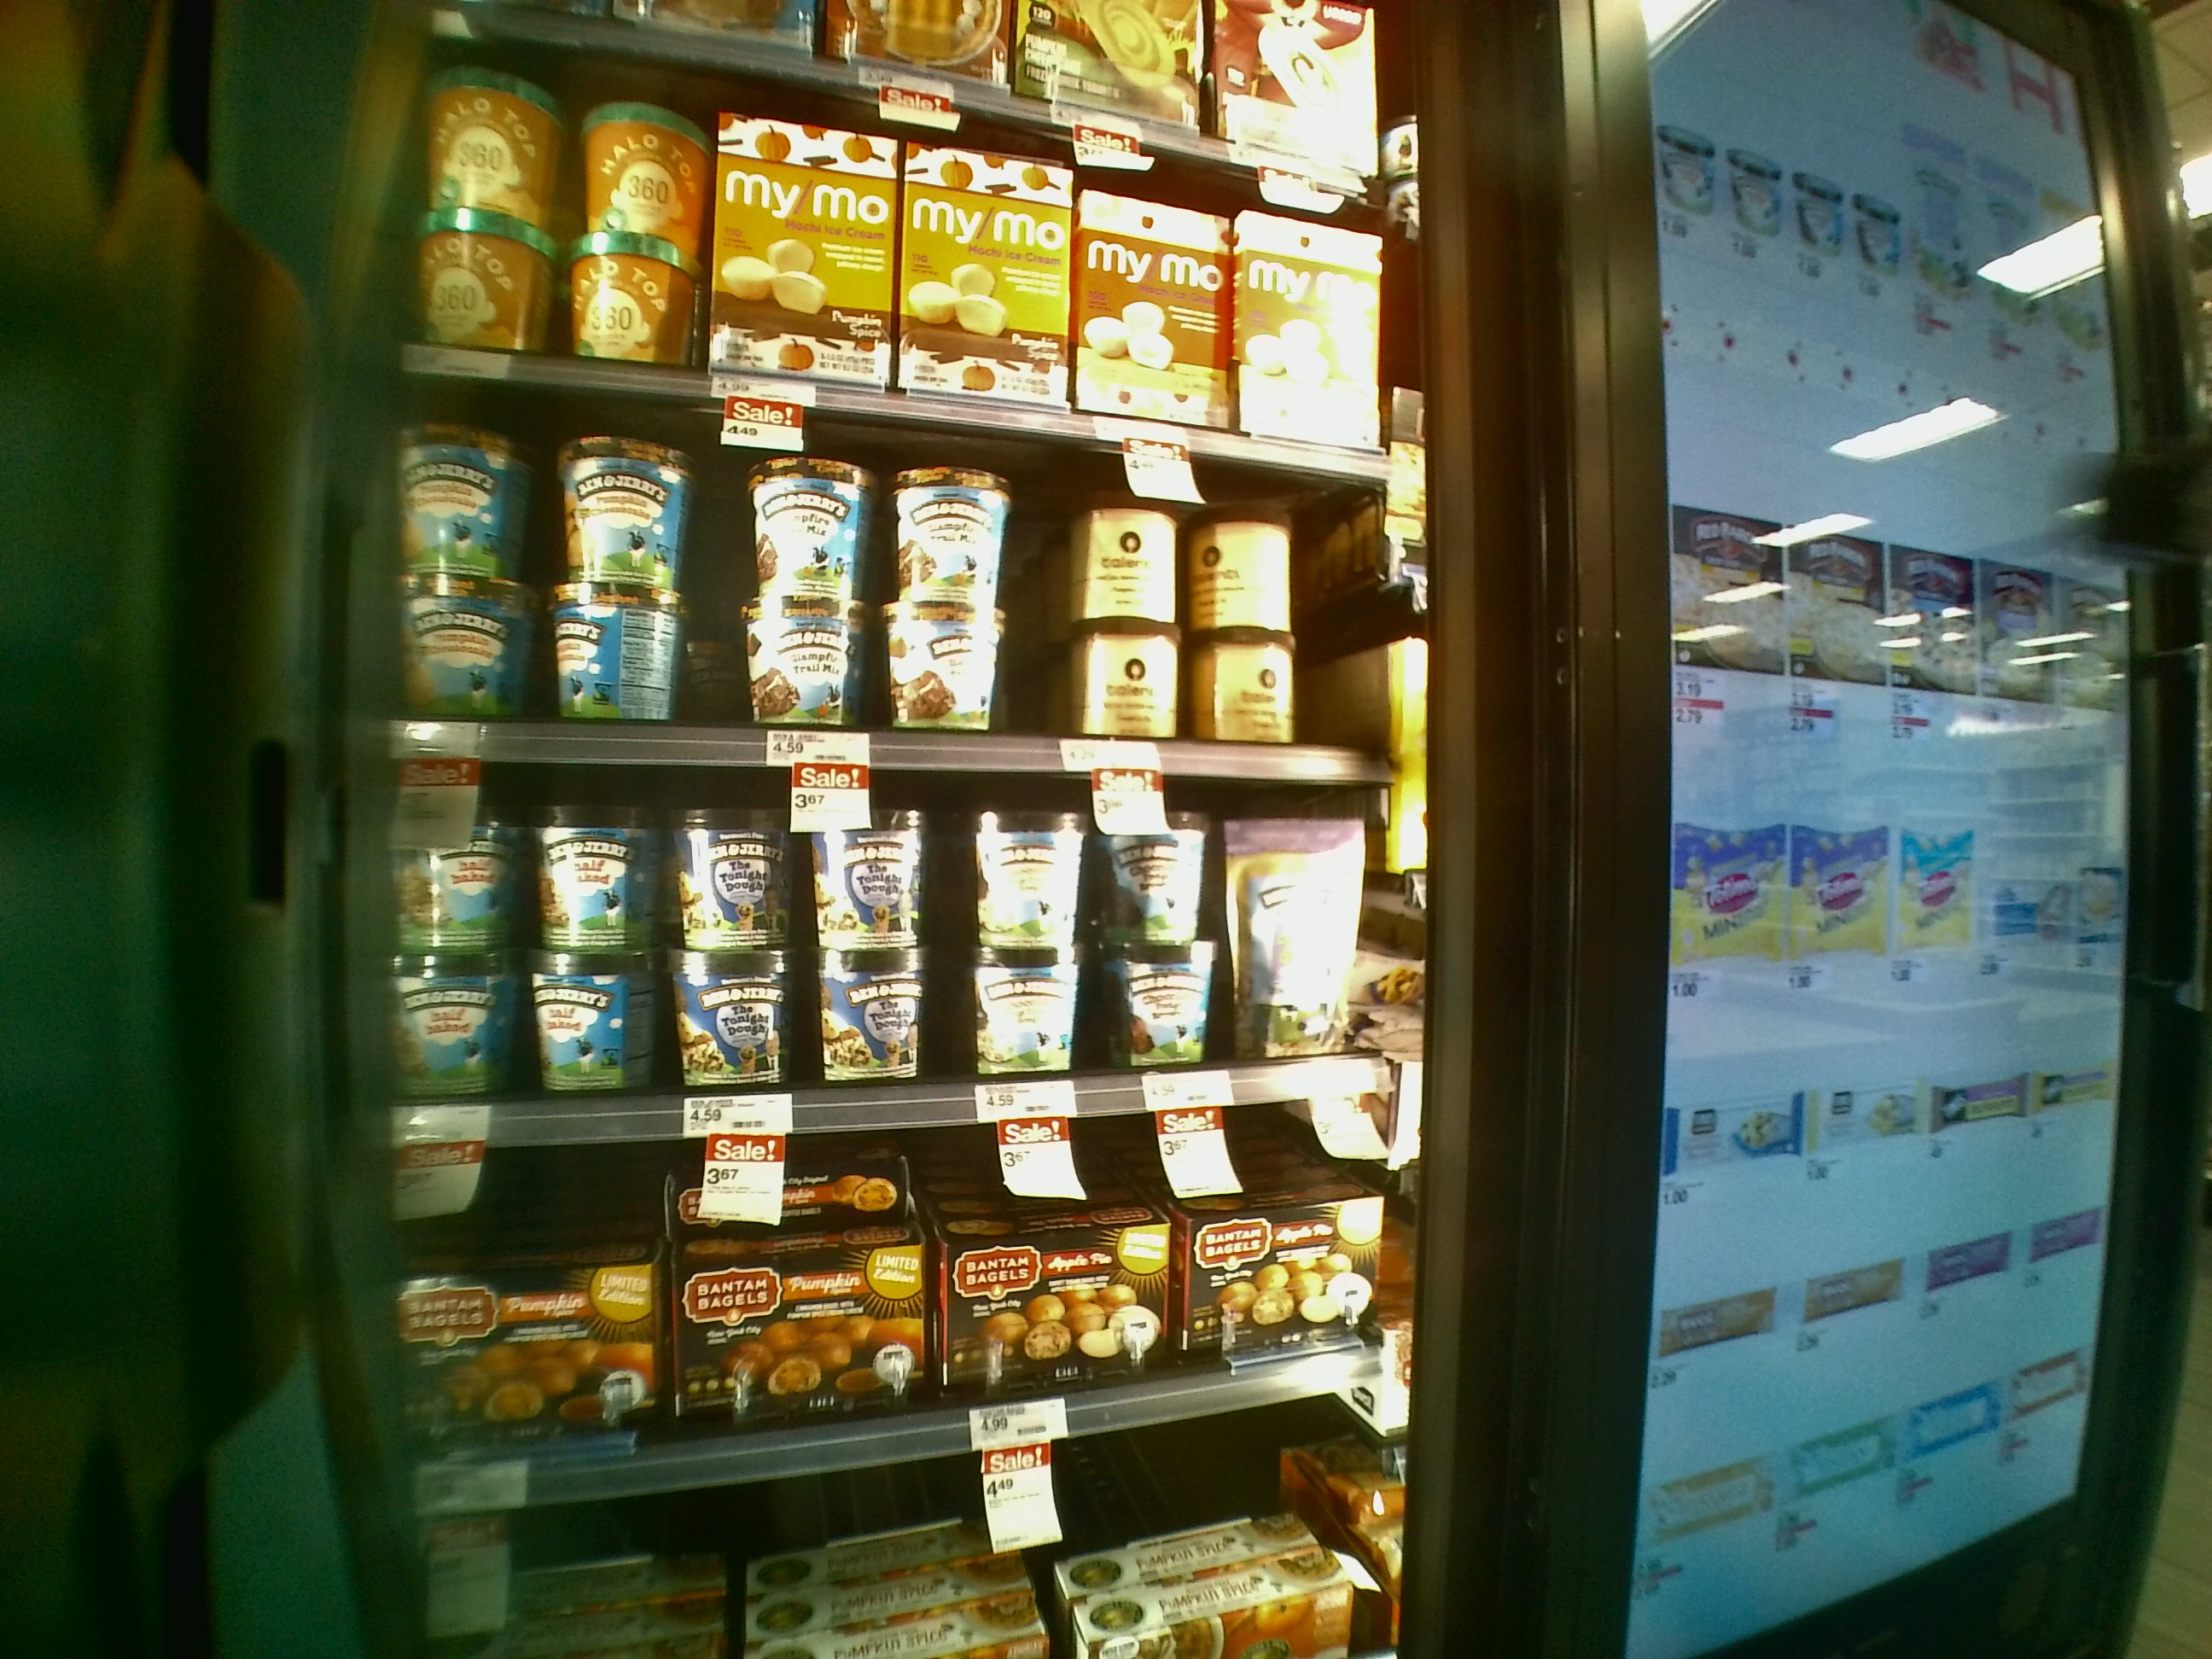shelf: (376, 336, 1423, 781), (345, 730, 1465, 1138), (347, 1112, 1393, 1446)
